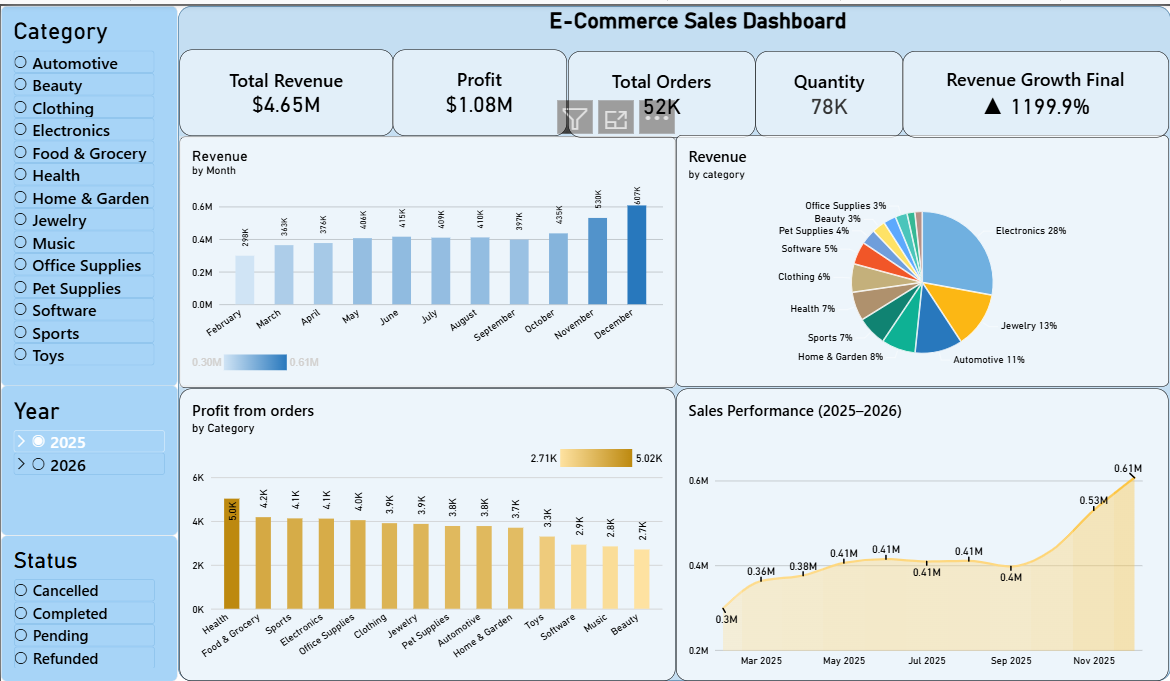

What the dashboard file says about the page in this screenshot:
{"tool":"powerbi","page":{"name":"E-Commerce Sales Dashboard","canvas":[1560,900],"ordinal":0},"visuals":[{"type":"shape","box":[236,0,1324,900],"z":0},{"type":"cardVisual","fields":{"Data":["e_commerce_behavior shopping_data.Total Revenue"]},"box":[237.5,57.5,285,115],"z":1000},{"type":"textbox","box":[290,0,1262,64],"z":2000},{"type":"clusteredColumnChart","title":"Revenue","fields":{"Category":["e_commerce_behavior shopping_data.transaction_date.Variation.Date Hierarchy.Month"],"Y":["e_commerce_behavior shopping_data.Total Revenue"]},"box":[238.3,173.3,661.7,335],"z":3000},{"type":"clusteredColumnChart","title":"Profit from orders","fields":{"Category":["e_commerce_behavior shopping_data.category"],"Y":["e_commerce_behavior shopping_data.Total Orders"]},"box":[238.6,510,661.4,390],"z":4000},{"type":"cardVisual","fields":{"Data":["Sum(e_commerce_behavior shopping_data.Profit)"]},"box":[522.5,57.5,232.5,115],"z":5000},{"type":"areaChart","title":"Sales Performance (2025–2026)","fields":{"Category":["e_commerce_behavior shopping_data.Date.Variation.Date Hierarchy.Year","e_commerce_behavior shopping_data.Date.Variation.Date Hierarchy.Month"],"Y":["Sum(e_commerce_behavior shopping_data.revenue)"]},"box":[900,510,656.7,390],"z":6000},{"type":"cardVisual","fields":{"Data":["e_commerce_behavior shopping_data.Total Orders"]},"box":[755,60,250,115],"z":7000},{"type":"listSlicer","title":"Category","fields":{"Values":["e_commerce_behavior shopping_data.category"]},"box":[0,0,235,507.5],"z":8000},{"type":"cardVisual","fields":{"Data":["Sum(e_commerce_behavior shopping_data.quantity)"]},"box":[1005,60,197.5,115],"z":9000},{"type":"listSlicer","title":"Year","fields":{"Values":["e_commerce_behavior shopping_data.Date.Variation.Date Hierarchy.Year","e_commerce_behavior shopping_data.Date.Variation.Date Hierarchy.Month"]},"box":[0,506,236,200],"z":10000},{"type":"listSlicer","title":"Status","fields":{"Values":["e_commerce_behavior shopping_data.status"]},"box":[0,705.6,235.6,194.4],"z":11000},{"type":"pieChart","fields":{"Category":["e_commerce_behavior shopping_data.category"],"Y":["Sum(e_commerce_behavior shopping_data.revenue)"]},"box":[900,172.5,657.5,335],"z":12000},{"type":"cardVisual","fields":{"Data":["e_commerce_behavior shopping_data.Revenue Growth Final"]},"box":[1202.5,60,355,115],"z":13000}]}

Visuals, with their boxes in screenshot pixels (x1, y1, x2, y2), scaled from the page's 1560x900 canvas onto the 1170x681 screenshot:
shape: 177/0/1169/680
cardVisual - e_commerce_behavior shopping_data.Total Revenue: 178/44/392/131
textbox: 218/0/1164/48
"Revenue" clusteredColumnChart: 179/131/675/385
"Profit from orders" clusteredColumnChart: 179/386/675/680
cardVisual - Sum(e_commerce_behavior shopping_data.Profit): 392/44/566/131
"Sales Performance (2025–2026)" areaChart: 675/386/1168/680
cardVisual - e_commerce_behavior shopping_data.Total Orders: 566/45/754/132
"Category" listSlicer: 0/0/176/384
cardVisual - Sum(e_commerce_behavior shopping_data.quantity): 754/45/902/132
"Year" listSlicer: 0/383/177/534
"Status" listSlicer: 0/534/177/680
pieChart - e_commerce_behavior shopping_data.category x Sum(e_commerce_behavior shopping_data.revenue): 675/131/1168/384
cardVisual - e_commerce_behavior shopping_data.Revenue Growth Final: 902/45/1168/132
